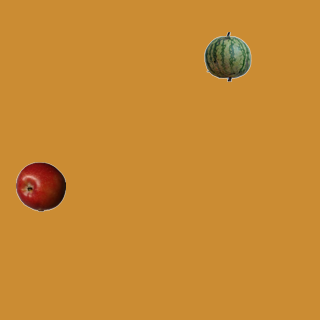Apple Braeburn: (15, 161, 65, 211)
Watermelon: (202, 31, 252, 81)
